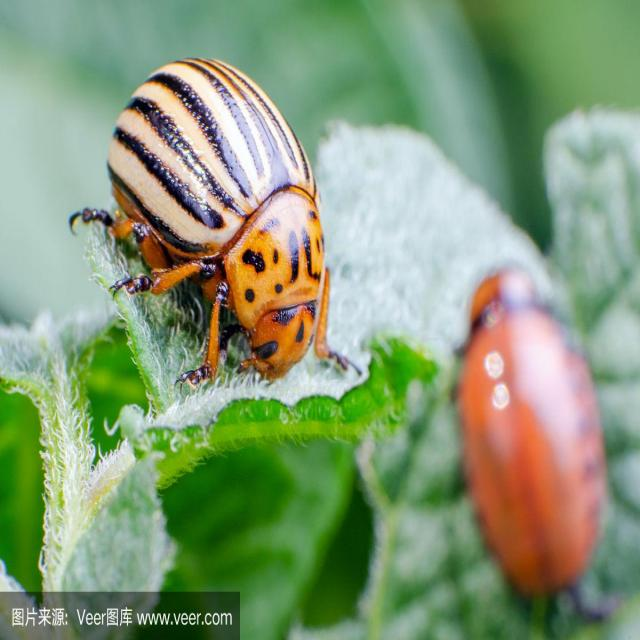ShuCaiHuaBanChong-Grown-: (99, 47, 376, 419)
ShuCaiHuaBanChong-Larva-: (456, 212, 611, 594)
